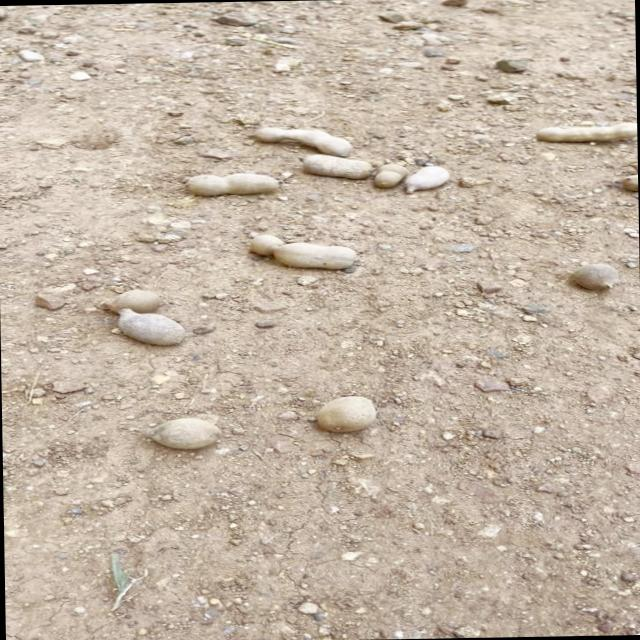tamarind: (101, 288, 185, 348), (240, 228, 358, 270), (304, 386, 378, 434), (251, 122, 351, 155), (132, 416, 225, 450), (530, 116, 636, 144), (178, 168, 280, 196), (300, 150, 370, 180), (570, 254, 622, 290), (371, 160, 408, 188)
